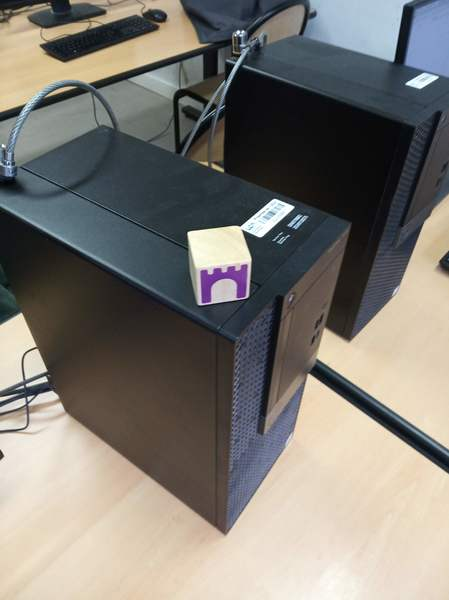violet: (190, 228, 253, 306)
